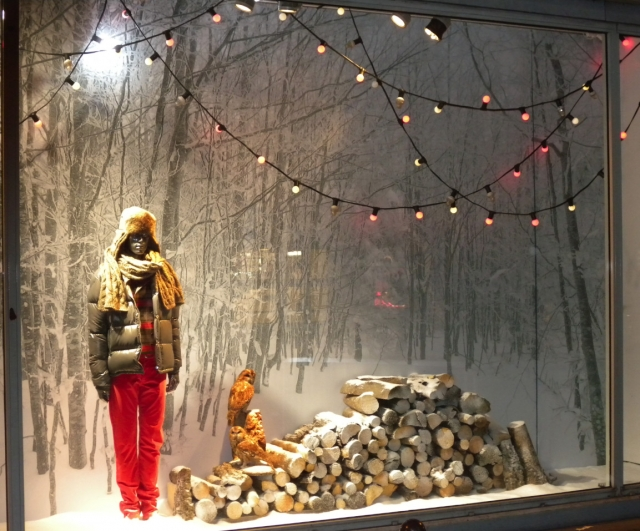person-like: (82, 200, 187, 525)
